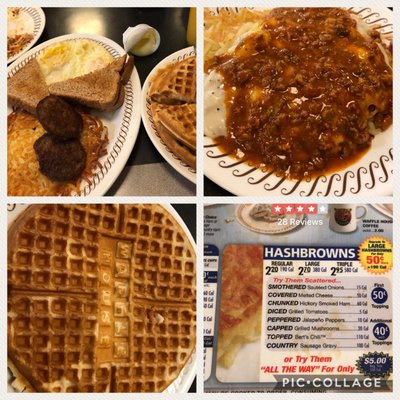curry: (7, 8, 362, 198), (6, 7, 253, 197)
pasta: (205, 202, 398, 393)
